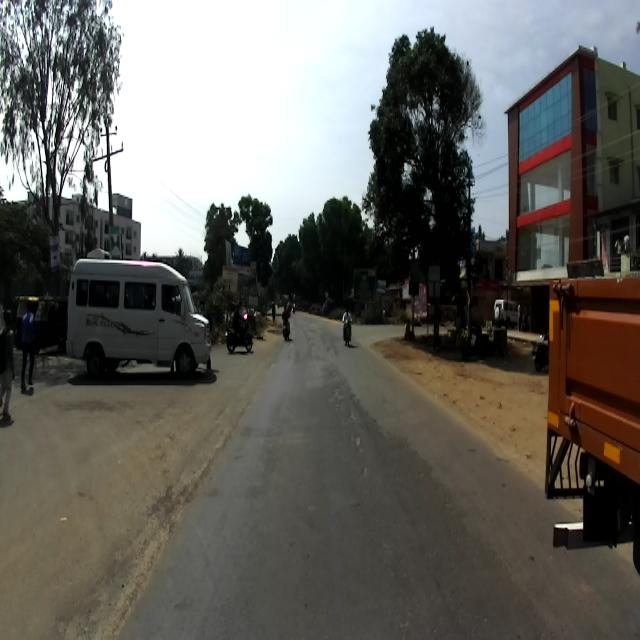bus ahead at: (66, 251, 215, 388)
